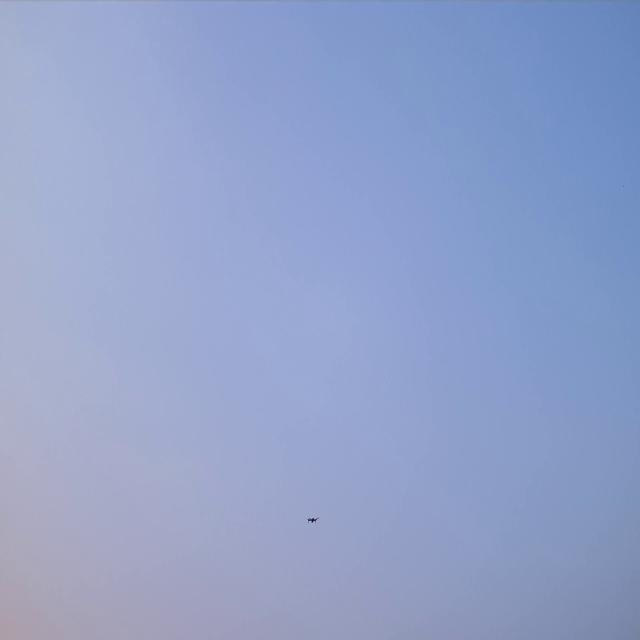UAV: (306, 514, 321, 526)
